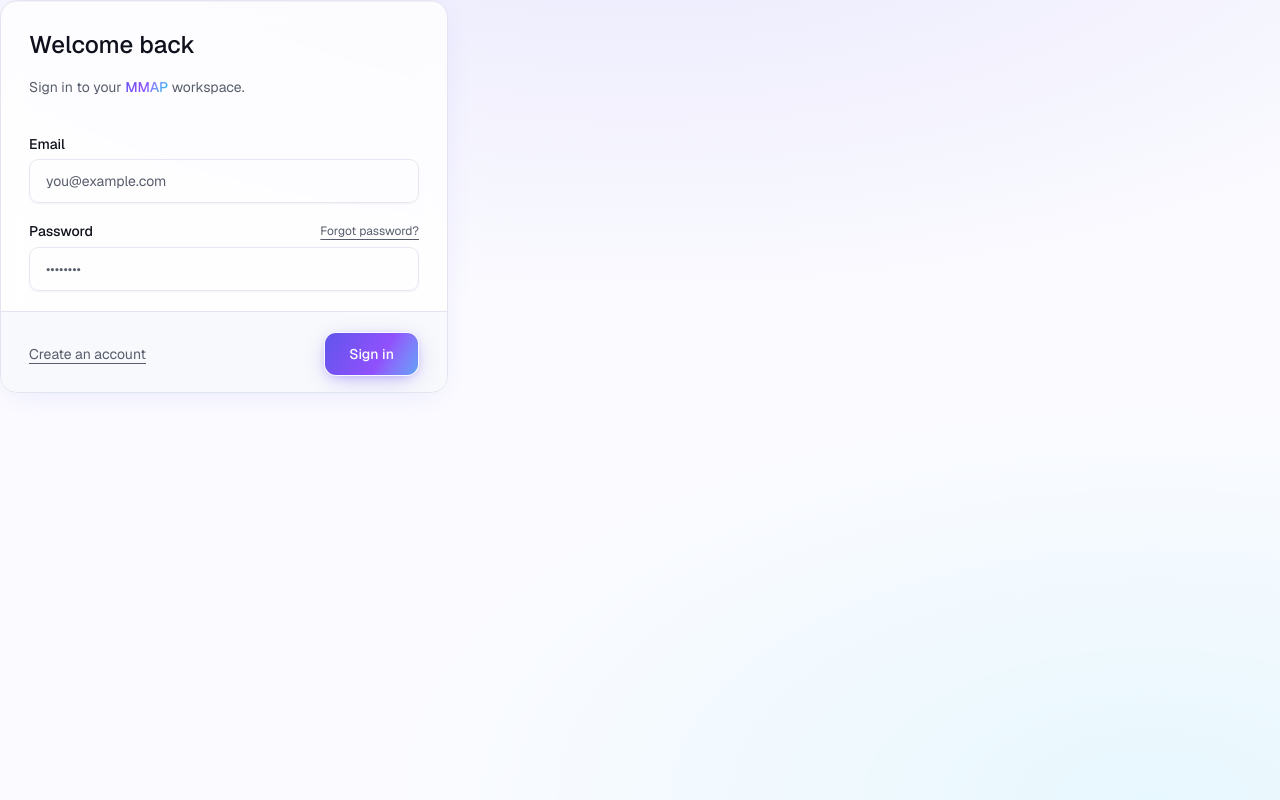
Scenario: <LoginForm /> › shows 'Invalid email or password' on 401
Type "a@b.com" into the field labelled "Email" at (224, 181), box [29,159,419,203]
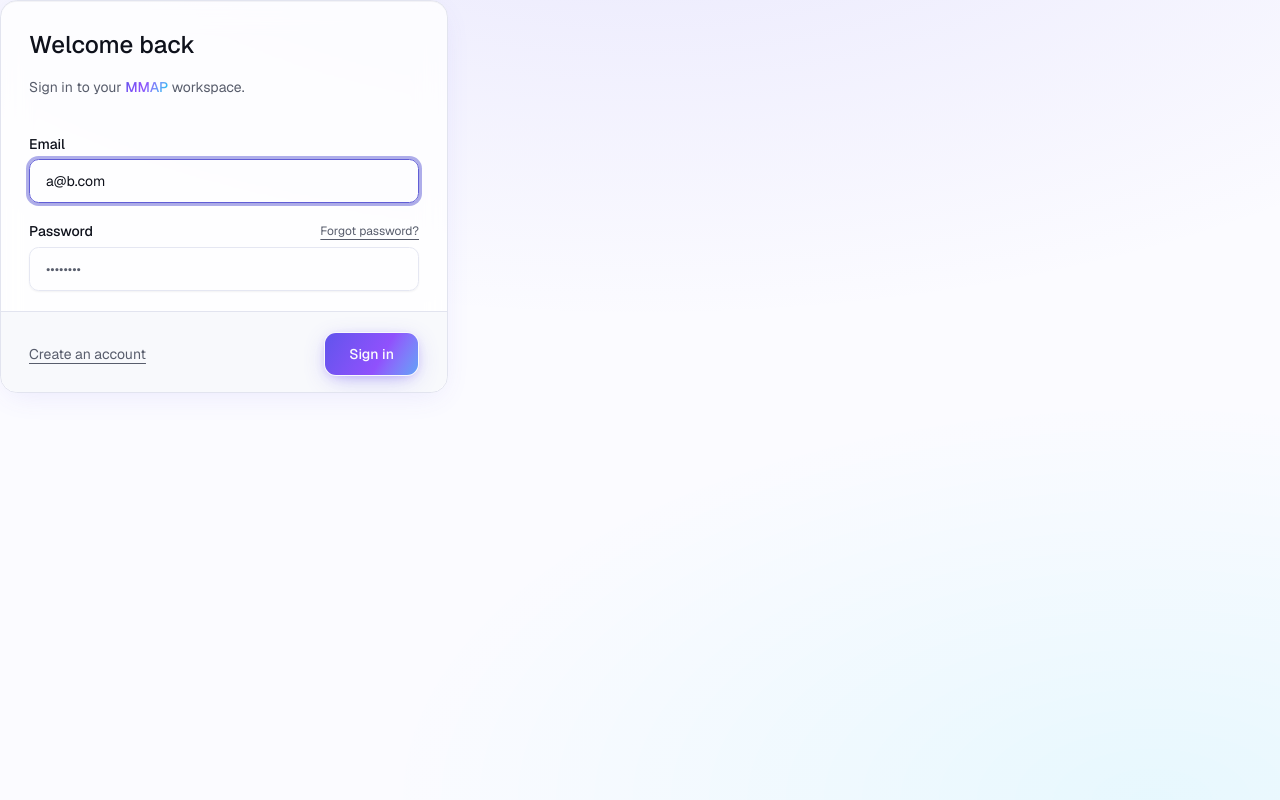
Type "wrongpassword" into the password field labelled "Password" at (224, 269), box [29,247,419,291]
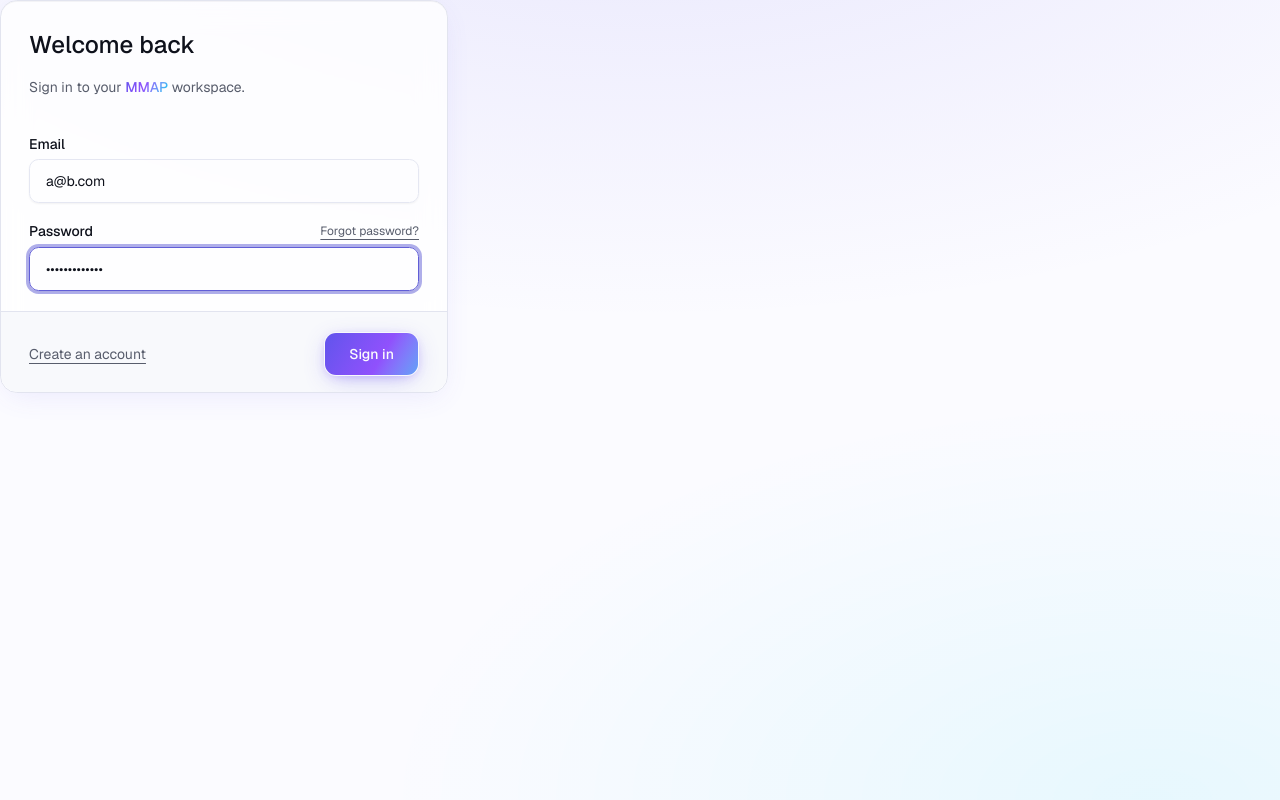
Click the button "Sign in" at (372, 354), box [324,332,419,376]
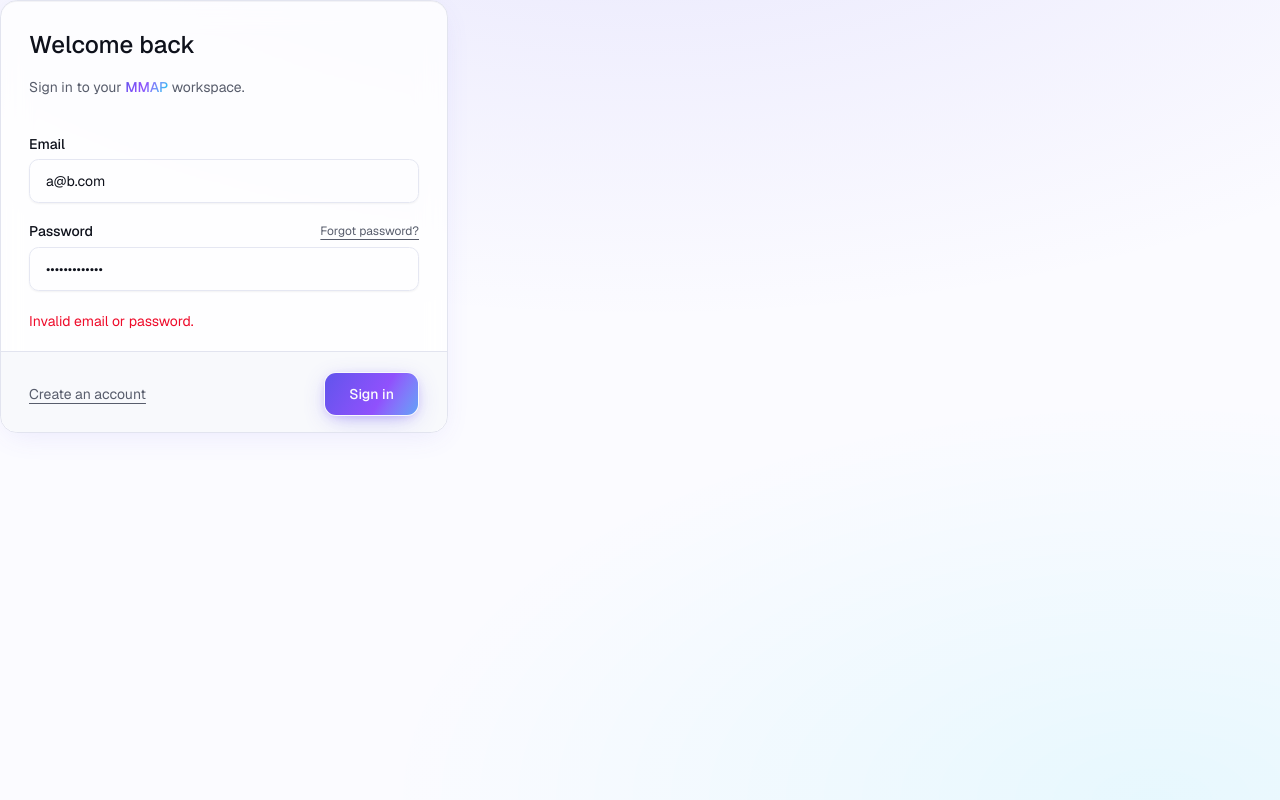
Check: the message shows "Invalid email or password", box [29,312,194,330]
